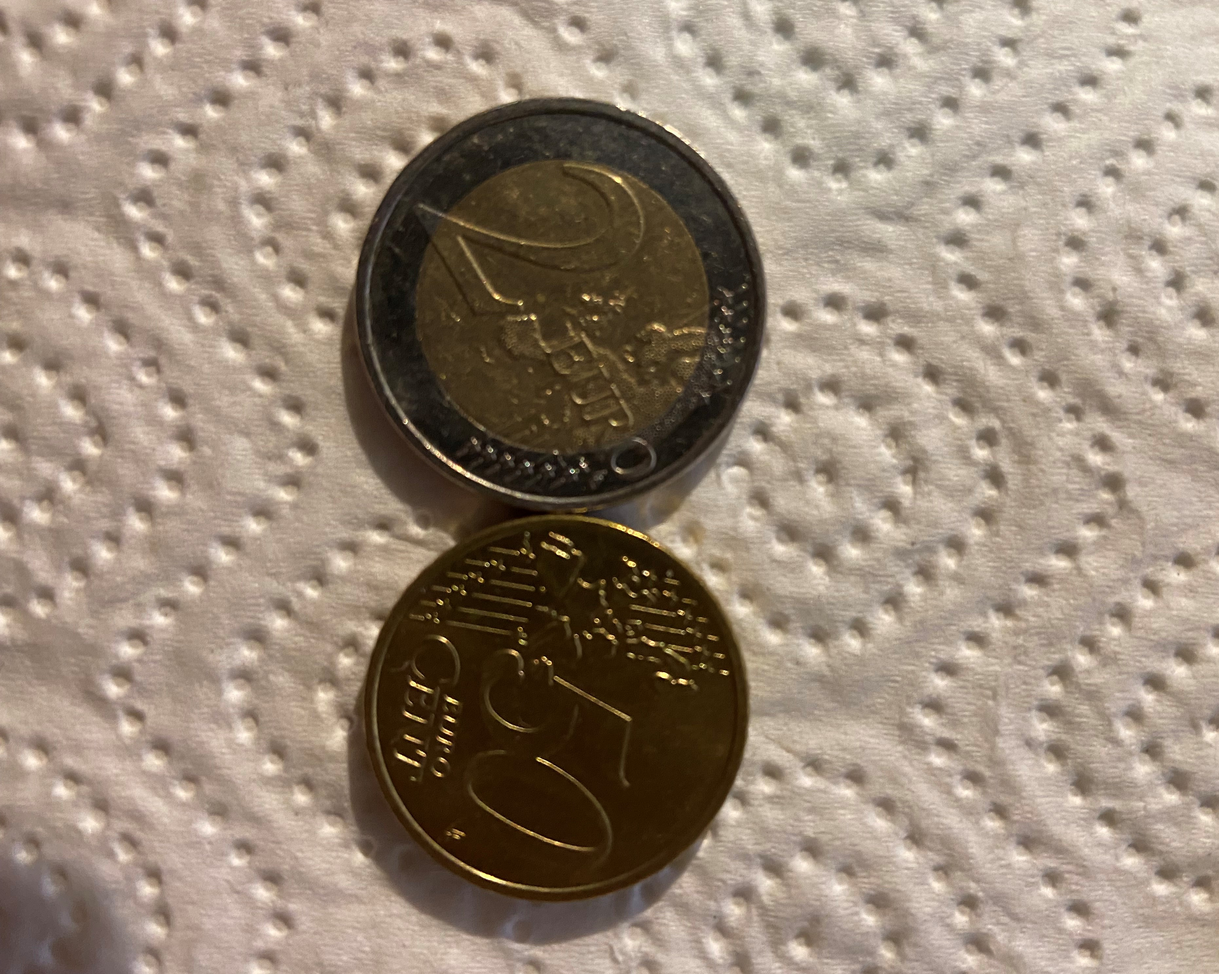2 euro: (341, 95, 767, 508)
50 cent: (363, 516, 749, 904)
